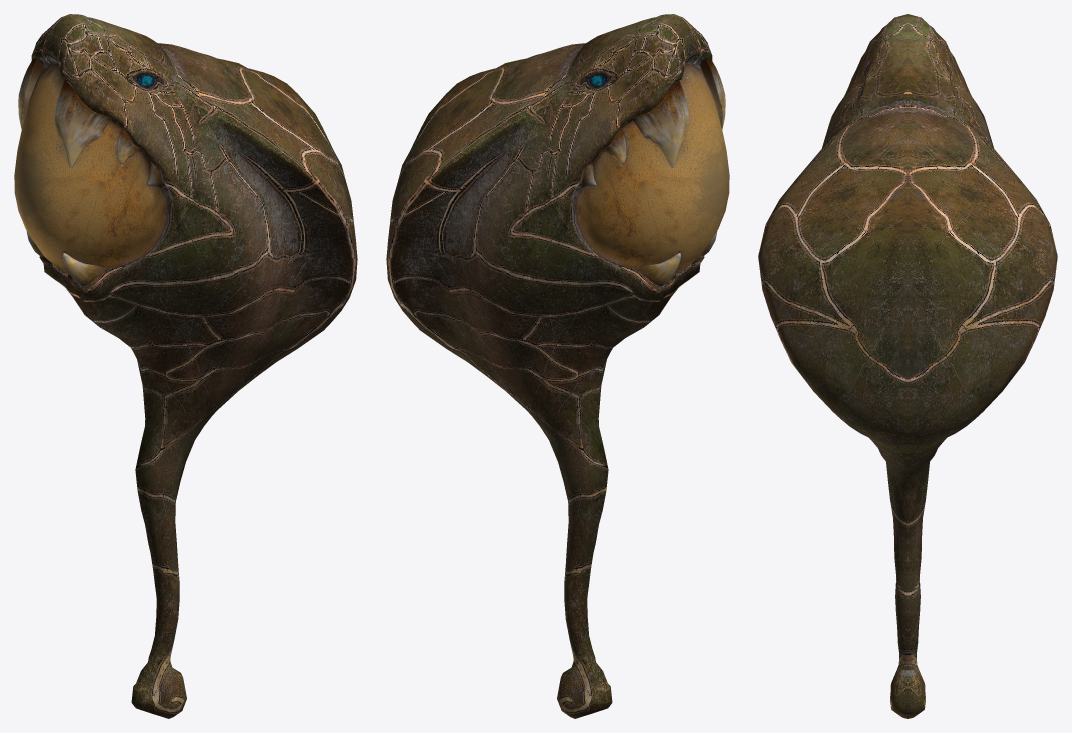
The model's file is ham001.obj.
3 renders of one model, left to right at view 1: azimuth 30°, elevation 25°; view 2: azimuth 150°, elevation 25°; view 3: azimuth 270°, elevation 25°, orthographic. The views are drawn at different scales.
Visible parts, largest first — view 1: ham001_000_LOD_1; view 2: ham001_000_LOD_1; view 3: ham001_000_LOD_1.
Part boxes in pixels (x1,y1,x2,y2): ham001_000_LOD_1: [14, 14, 357, 718]; ham001_000_LOD_1: [386, 14, 729, 718]; ham001_000_LOD_1: [758, 14, 1057, 718].
Bounding box in the file's own units: 88.73 × 202 × 83.38.
